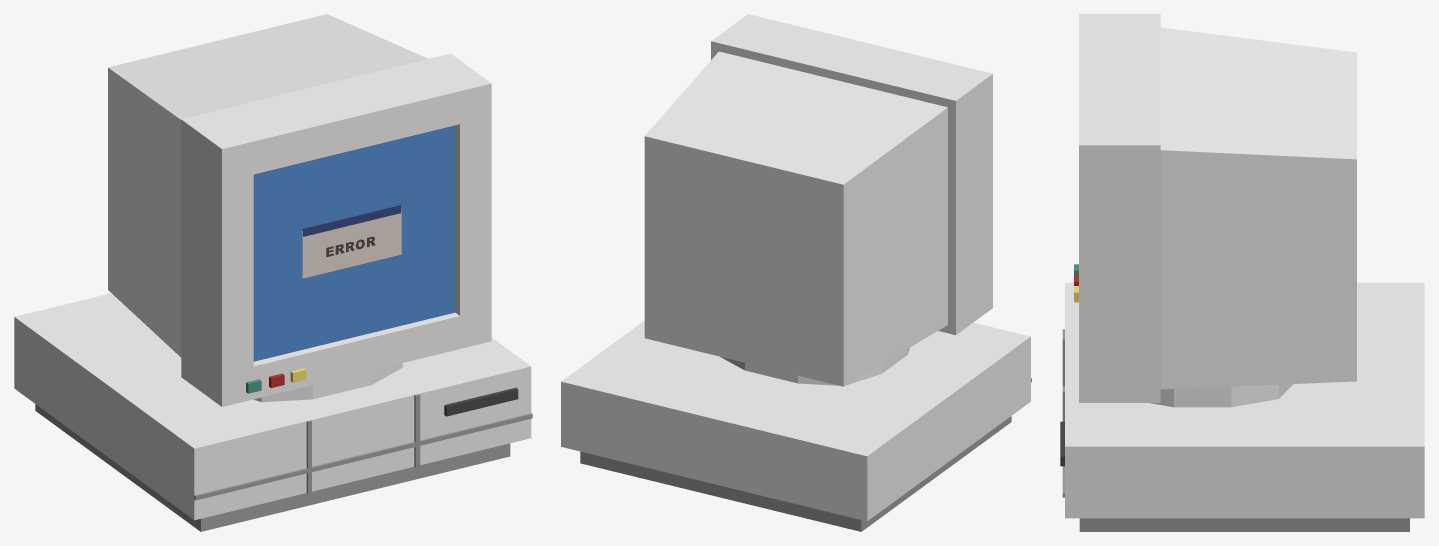
File: Computer_2.fbx
3 views of the same model, side by side, from view 1: azimuth 30°, elevation 25°; view 2: azimuth 150°, elevation 25°; view 3: azimuth 270°, elevation 25° (orthographic). The views are drawn at different scales.
Visible parts, largest first — view 1: Computer_2; view 2: Computer_2; view 3: Computer_2.
Part boxes in pixels (box(x1,y1,x2,y2)): Computer_2: box(14, 14, 532, 531); Computer_2: box(561, 14, 1031, 531); Computer_2: box(1060, 14, 1424, 531).
Bounding box in the file's own units: 48.16 × 45.17 × 51.61.
